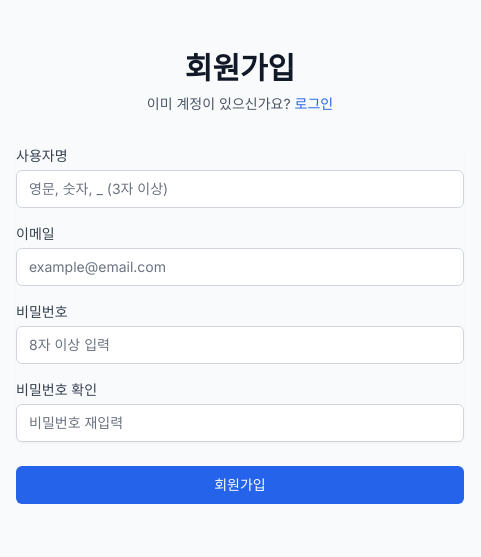
Test: RegisterPage › 폼 검증 - 사용자명 › 특수문자가 포함된 사용자명으로 제출 시 에러 메시지가 표시된다
The width and height of the screenshot is (481, 557).
Type "user@name" into the field labelled "사용자명" at (240, 189), box [16,170,464,208]
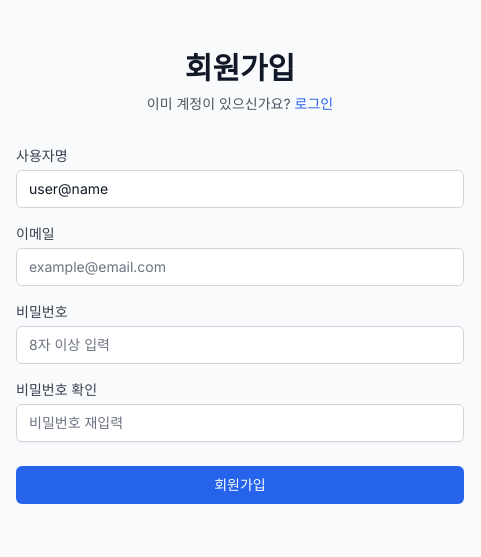
Type "test@example.com" into the field labelled "이메일" at (240, 267), box [16,248,464,286]
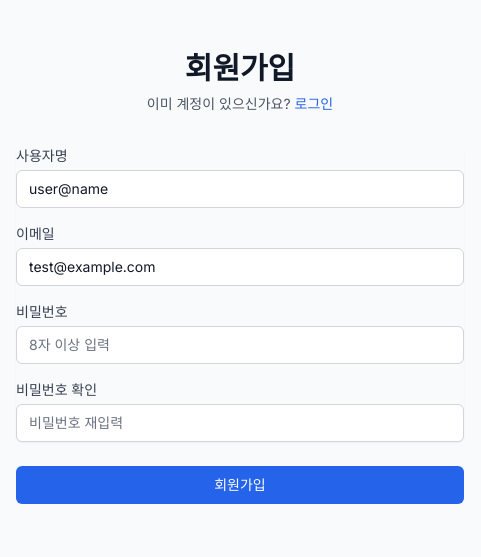
Click the button "회원가입" at (240, 485), box [16,466,464,504]
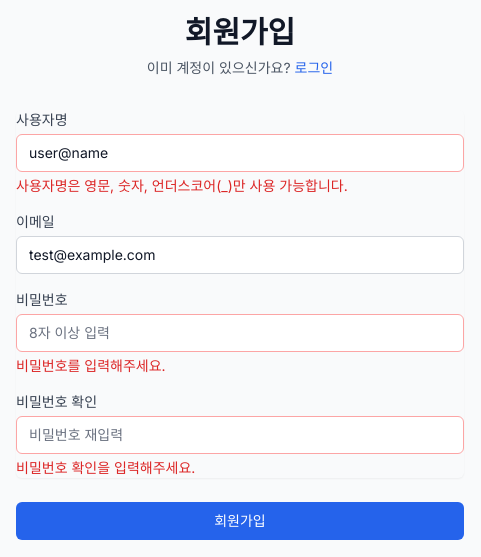
Expected: the text "사용자명은 영문, 숫자, 언더스코어(_)만 사용 가능합니다." is shown, [16,177,348,194]
